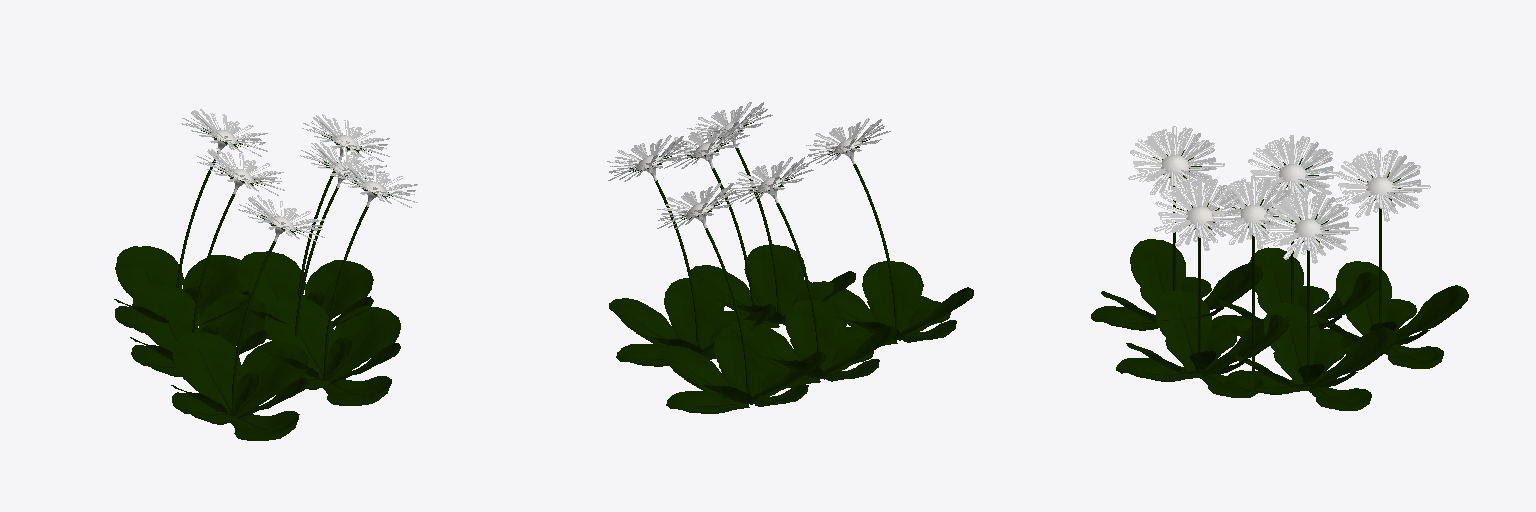
File: margarites1.obj
3 renders of one model, left to right at view 1: azimuth 30°, elevation 25°; view 2: azimuth 150°, elevation 25°; view 3: azimuth 270°, elevation 25°, orthographic.
Visible parts, largest first — view 1: Mesh78 Group78 Model, Mesh240 Group240 Model, Mesh328 Group328 Model, Mesh239 Group239 Model, Mesh80 Group80 Model, Mesh498 Group498 Model, Mesh414 Group414 Model, Mesh499 Group499 Model, Mesh325 Group325 Model, Mesh409 Group409 Model, Mesh241 Group241 Model, Mesh81 Group81 Model (+8 smaller); view 2: Mesh83 Group83 Model, Mesh497 Group497 Model, Mesh416 Group416 Model, Mesh331 Group331 Model, Mesh245 Group245 Model, Mesh409 Group409 Model, Mesh499 Group499 Model, Mesh80 Group80 Model, Mesh239 Group239 Model, Mesh415 Group415 Model, Mesh325 Group325 Model, Mesh418 Group418 Model (+9 smaller); view 3: Mesh247 Group247 Model, Mesh82 Group82 Model, Mesh502 Group502 Model, Mesh327 Group327 Model, Mesh411 Group411 Model, Mesh498 Group498 Model, Mesh414 Group414 Model, Mesh240 Group240 Model, Mesh78 Group78 Model, Mesh328 Group328 Model, Mesh418 Group418 Model, Mesh241 Group241 Model (+9 smaller).
Part boxes in pixels (x1,y1,x2,y2): Mesh78 Group78 Model: (172, 332, 240, 409); Mesh240 Group240 Model: (265, 297, 333, 375); Mesh328 Group328 Model: (132, 285, 200, 351); Mesh239 Group239 Model: (328, 306, 400, 383); Mesh80 Group80 Model: (235, 341, 308, 418); Mesh498 Group498 Model: (237, 251, 305, 307); Mesh414 Group414 Model: (115, 246, 183, 298); Mesh499 Group499 Model: (305, 260, 373, 318); Mesh325 Group325 Model: (199, 294, 266, 346); Mesh409 Group409 Model: (183, 255, 251, 316); Mesh241 Group241 Model: (321, 376, 391, 405); Mesh81 Group81 Model: (229, 411, 299, 440); Mesh83 Group83 Model: (862, 261, 923, 333); Mesh497 Group497 Model: (664, 277, 724, 350); Mesh416 Group416 Model: (714, 325, 775, 397); Mesh331 Group331 Model: (785, 299, 846, 371); Mesh245 Group245 Model: (744, 244, 805, 315); Mesh409 Group409 Model: (659, 346, 745, 407); Mesh499 Group499 Model: (609, 298, 679, 347); Mesh80 Group80 Model: (807, 281, 893, 342); Mesh239 Group239 Model: (690, 265, 776, 326); Mesh415 Group415 Model: (666, 391, 749, 413); Mesh325 Group325 Model: (730, 320, 816, 381); Mesh418 Group418 Model: (616, 344, 668, 366); Mesh247 Group247 Model: (1156, 290, 1211, 371); Mesh82 Group82 Model: (1130, 239, 1185, 306); Mesh502 Group502 Model: (1264, 303, 1319, 384); Mesh327 Group327 Model: (1249, 247, 1303, 309); Mesh411 Group411 Model: (1336, 261, 1391, 334); Mesh498 Group498 Model: (1310, 327, 1396, 390); Mesh414 Group414 Model: (1395, 285, 1468, 339); Mesh240 Group240 Model: (1202, 314, 1288, 377); Mesh78 Group78 Model: (1204, 263, 1262, 309); Mesh328 Group328 Model: (1313, 272, 1378, 323); Mesh418 Group418 Model: (1303, 387, 1371, 410); Mesh241 Group241 Model: (1116, 358, 1201, 381).
Size of the model in its own units: 3.91 by 2.74 by 4.49.